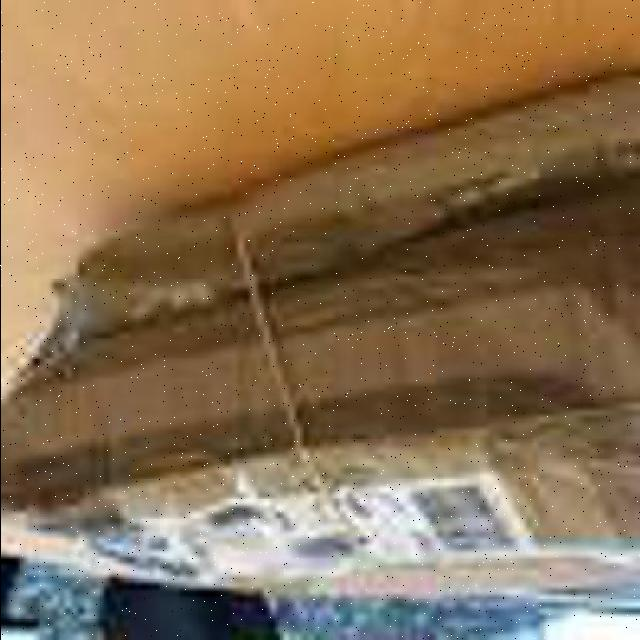defect: (9, 78, 637, 588)
